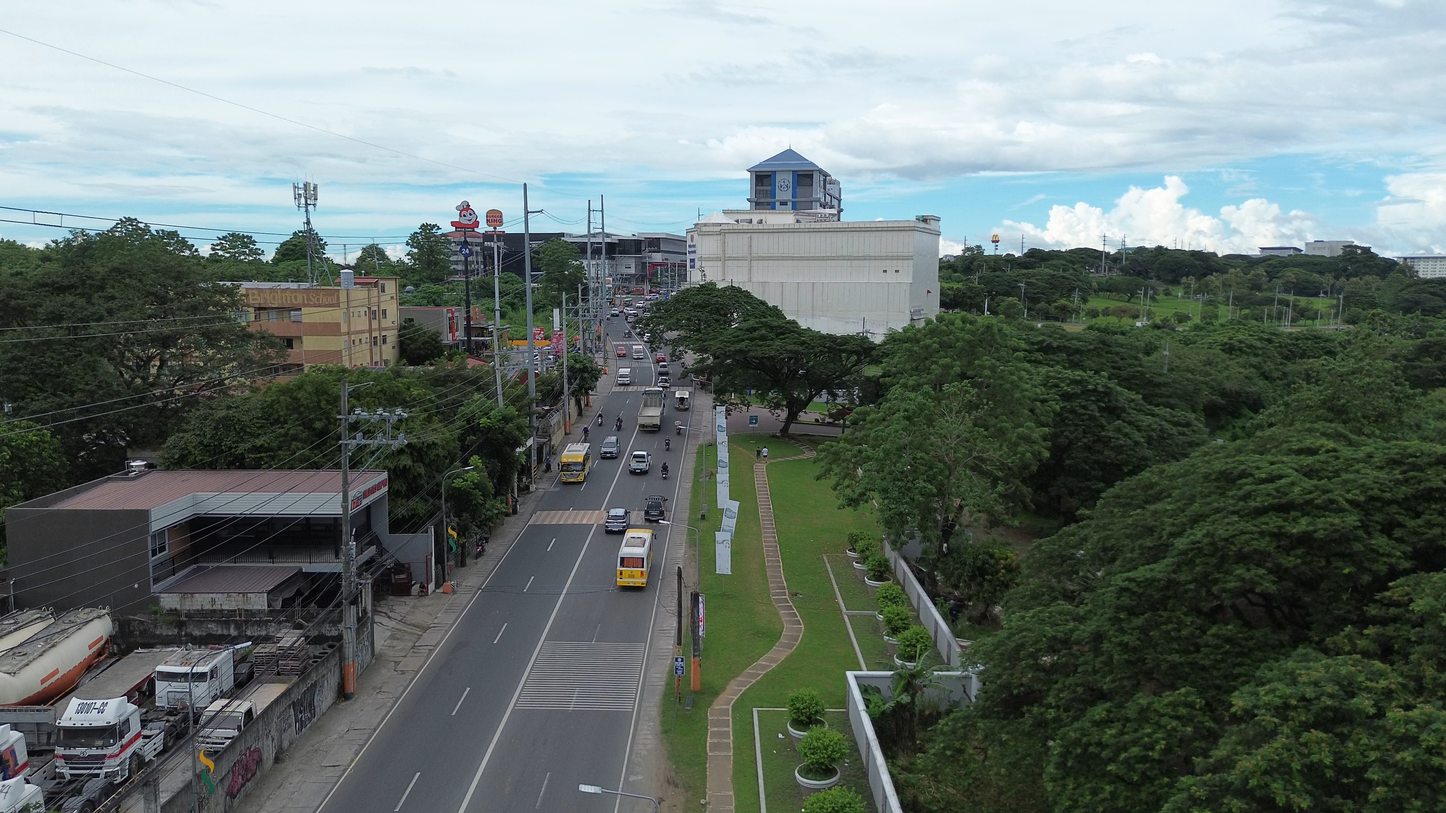bus: (616, 528, 654, 587), (560, 442, 591, 482)
car: (604, 507, 630, 533), (599, 435, 620, 458), (656, 371, 670, 387), (616, 346, 628, 358), (656, 360, 668, 371), (655, 353, 667, 362)
motorcycle: (661, 463, 668, 480), (665, 438, 670, 451)
truck: (197, 680, 290, 754)
vehicle: (0, 608, 113, 705), (54, 698, 164, 781), (154, 642, 250, 709), (196, 699, 255, 753), (0, 724, 31, 780), (0, 777, 46, 813), (638, 387, 664, 431), (644, 495, 667, 521), (628, 451, 650, 474), (674, 390, 690, 410), (655, 371, 671, 388), (616, 368, 631, 385), (632, 344, 646, 359), (656, 359, 669, 371), (616, 346, 628, 358), (654, 353, 666, 363), (609, 309, 620, 317)
